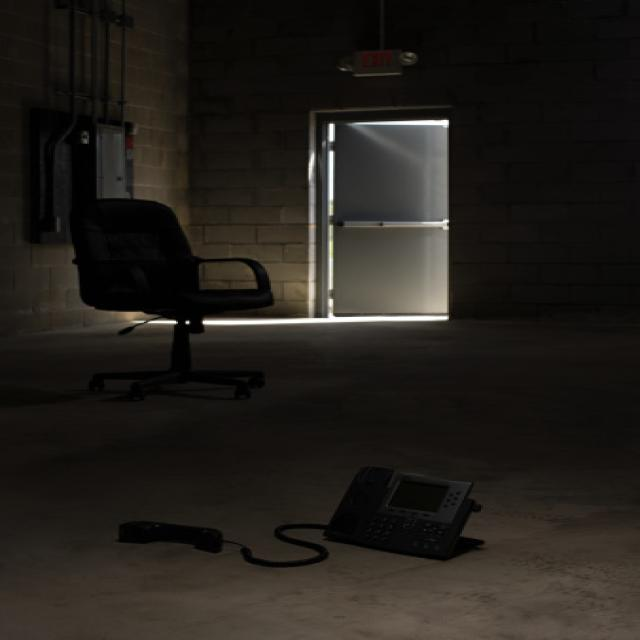chair: (70, 194, 291, 389)
